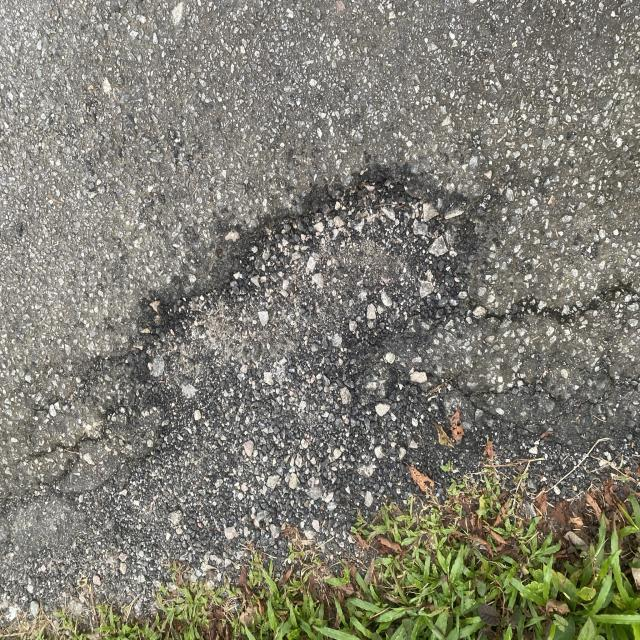Pothole: (92, 161, 532, 492)
